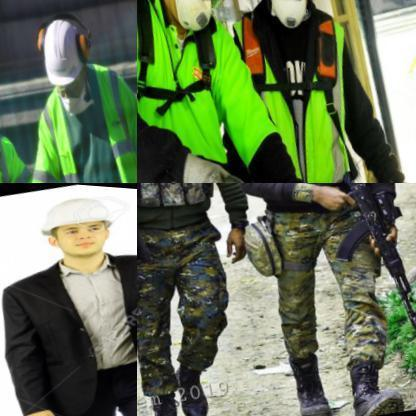vest: (221, 0, 393, 182), (12, 63, 136, 182), (253, 183, 388, 234), (137, 183, 235, 244)
